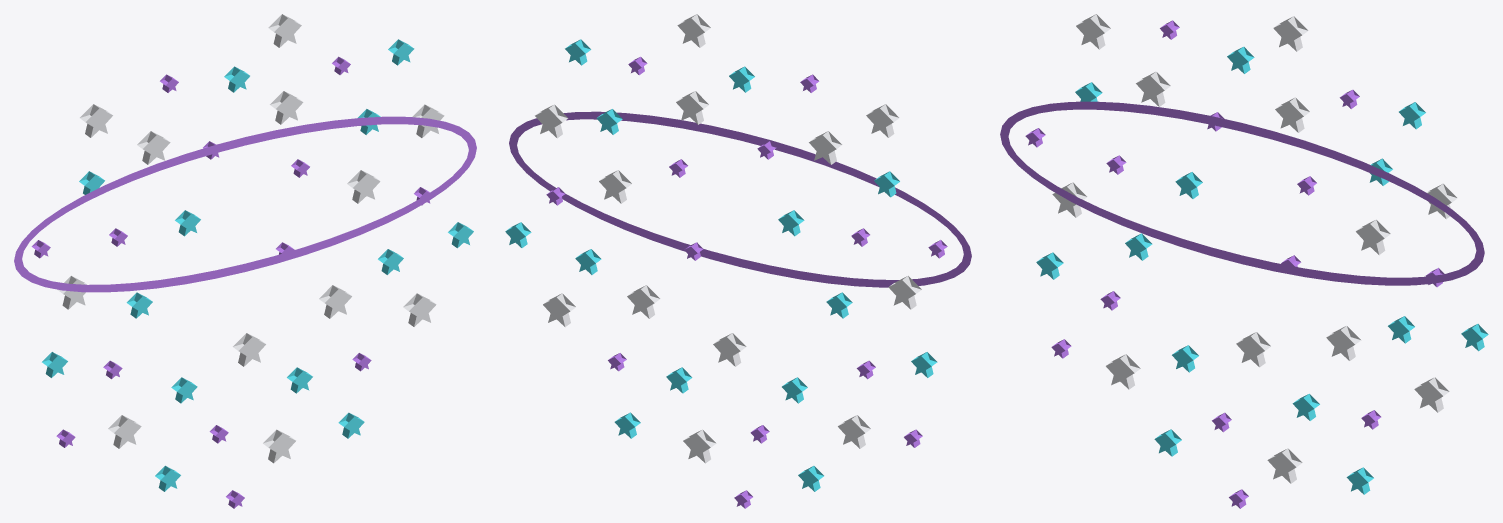
The model's file is galaxy-face.glb.
The picture shows the model from 3 angles, left to right: view 1: azimuth 30°, elevation 25°; view 2: azimuth 150°, elevation 25°; view 3: azimuth 330°, elevation 25°; orthographic projection. The views are drawn at different scales.
Parts seen in each view (by area): view 1: galaxy orbit, constellation (×10); view 2: constellation (×12), galaxy orbit; view 3: galaxy orbit, constellation (×10).
Part boxes in pixels (x1,y1,x2,y2): galaxy orbit: [14, 116, 476, 292]; constellation (×10): [80, 14, 436, 463]; constellation (×12): [535, 14, 921, 463]; galaxy orbit: [509, 111, 971, 287]; galaxy orbit: [1000, 101, 1484, 285]; constellation (×10): [1076, 14, 1449, 483].
Bounding box in the file's own units: 1.61 × 1.58 × 0.0375.
